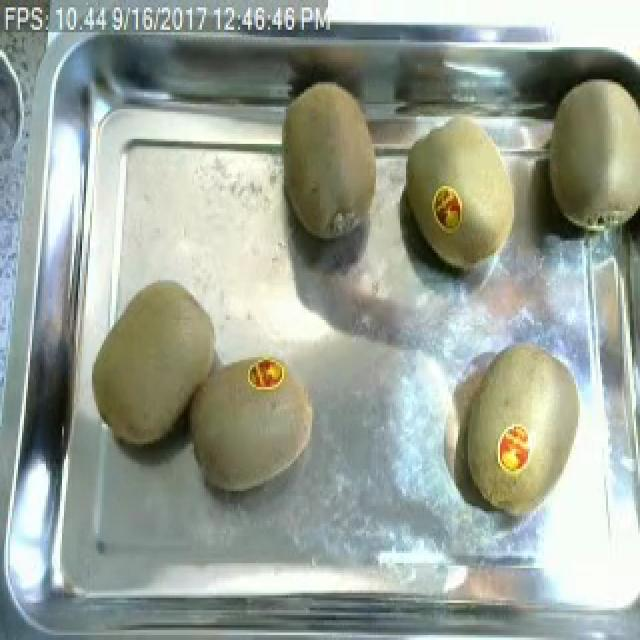Fruit: (438, 332, 594, 526), (82, 270, 228, 459), (174, 350, 326, 501), (398, 109, 528, 278), (270, 72, 386, 248), (536, 64, 640, 246)
